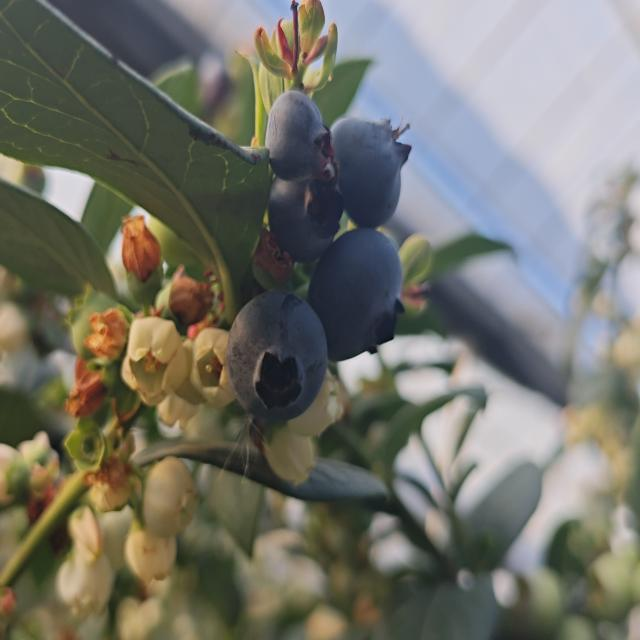ripe: (223, 286, 329, 426), (306, 226, 406, 364), (328, 113, 413, 230), (259, 155, 341, 266), (262, 88, 336, 187)
